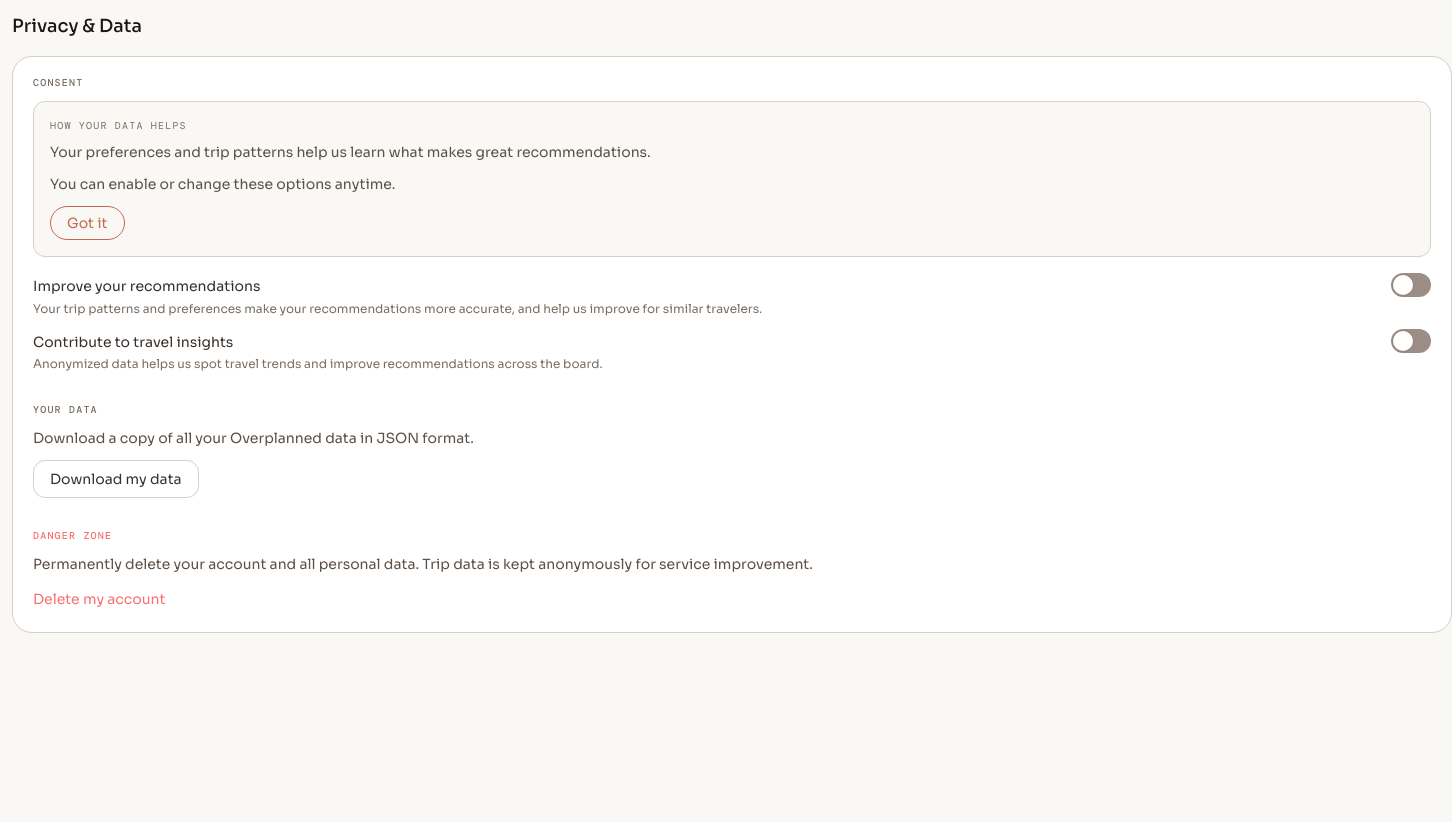
Test: PrivacySection › export error shows error message
The image size is (1452, 822).
Click the button "Download my data" at (116, 479), box left=33, top=460, right=199, bottom=498
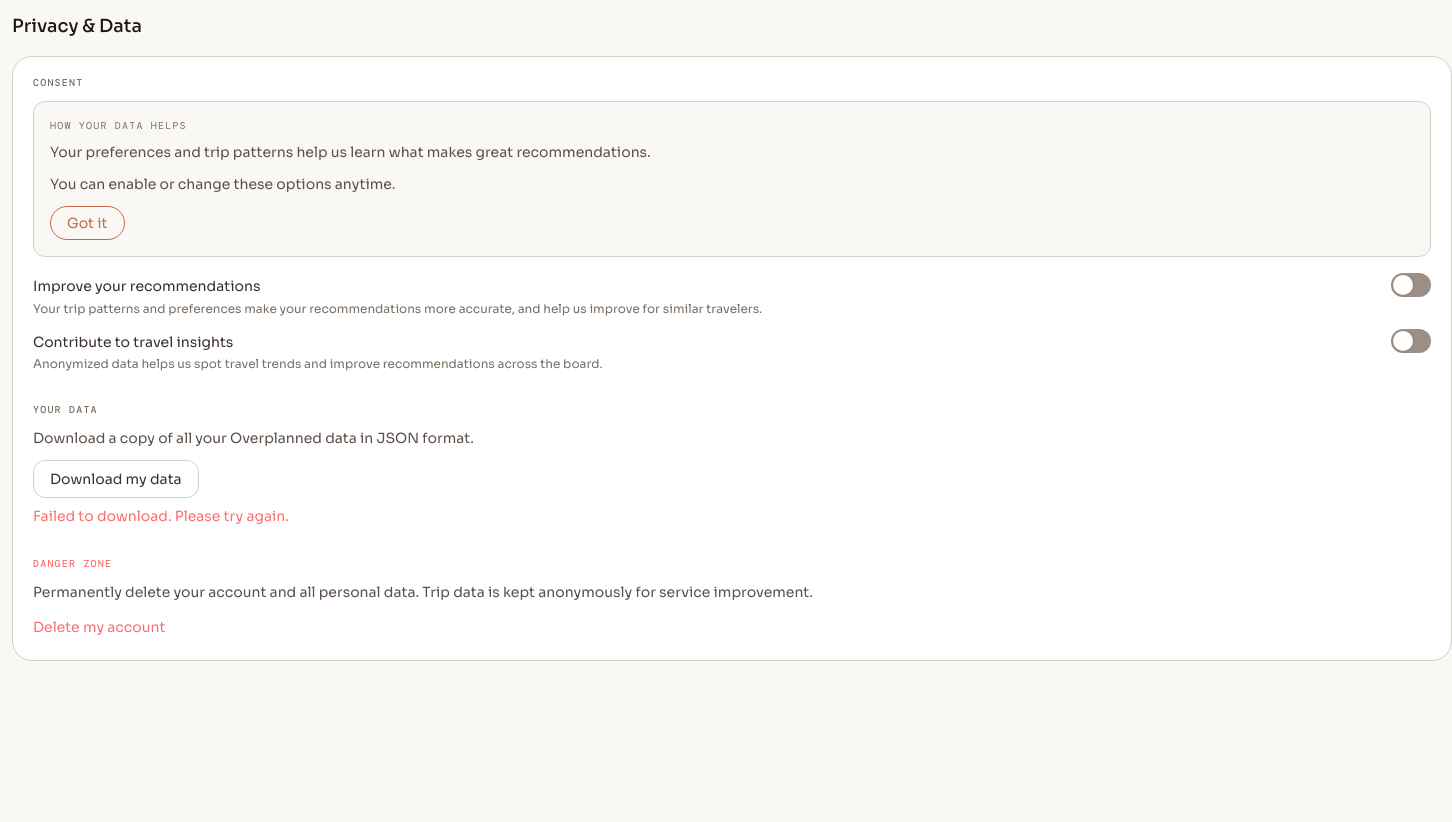
Expected: the text "Failed to download. Please try again." is shown, left=33, top=507, right=289, bottom=525
